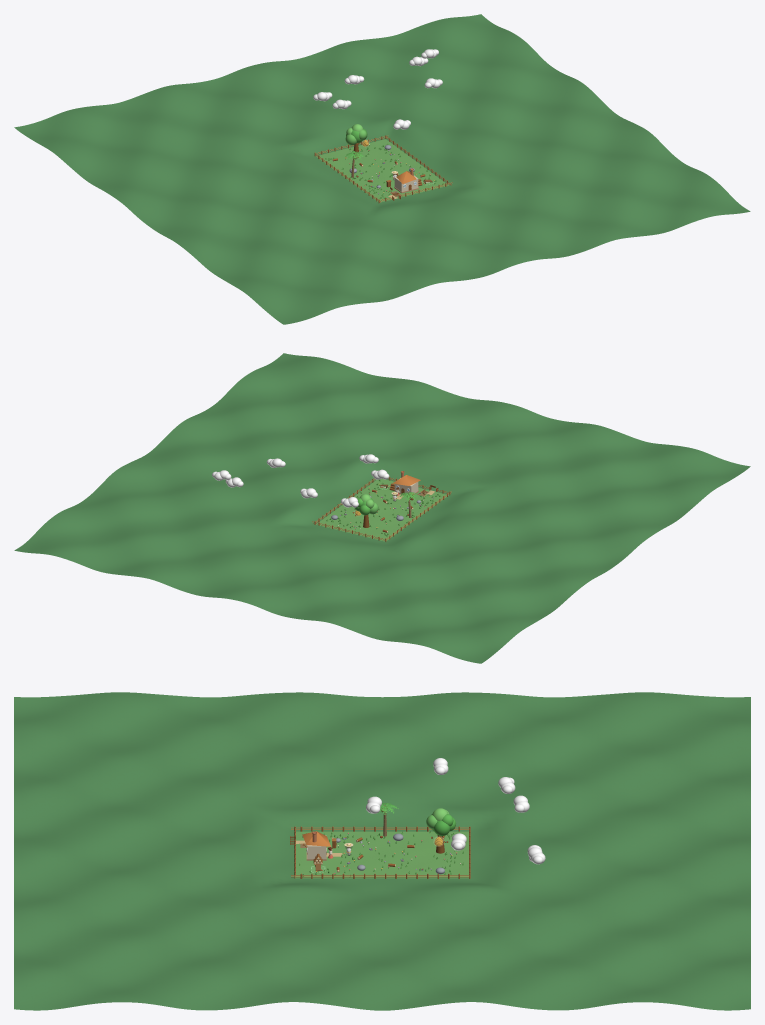
The model's file is farm-scene.glb.
The picture shows the model from 3 angles, top to bottom: view 1: azimuth 30°, elevation 25°; view 2: azimuth 150°, elevation 25°; view 3: azimuth 270°, elevation 25°; orthographic projection. The views are drawn at different scales.
Size of the model in its own units: 140 by 17.45 by 140.
Materials: 76 (15 with a texture image).
